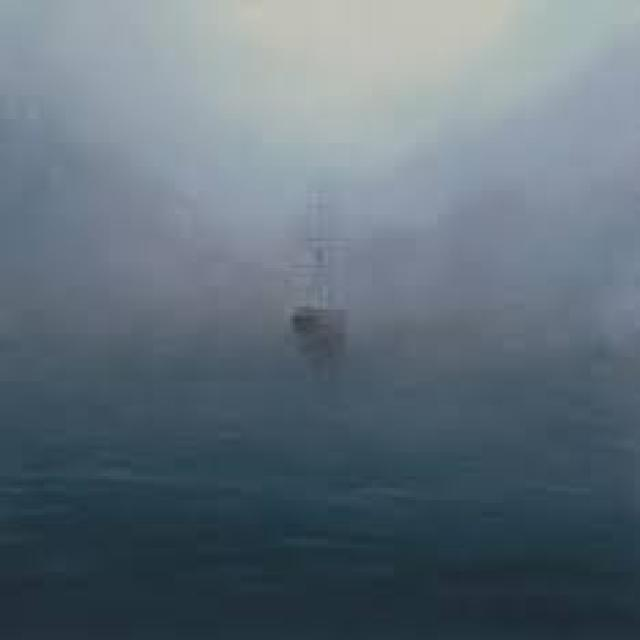fishing boat: (268, 232, 363, 354)
